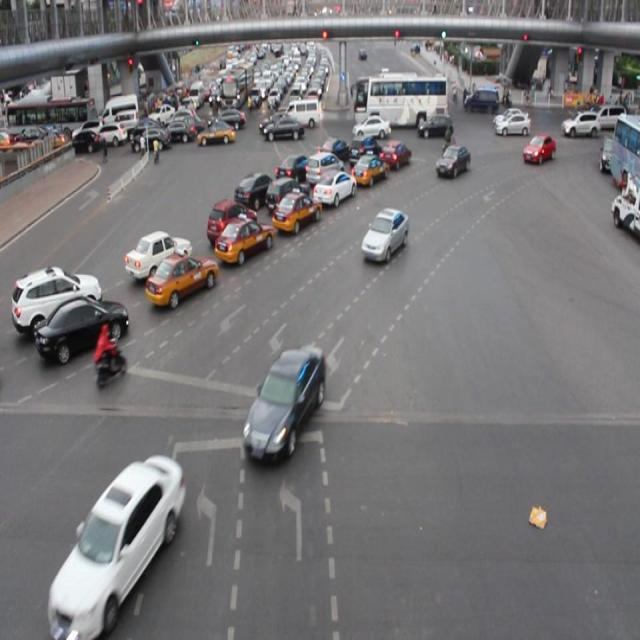car: (51, 458, 186, 632), (242, 347, 326, 465), (36, 296, 132, 362), (11, 265, 102, 331), (144, 249, 220, 307), (122, 227, 193, 284), (215, 216, 275, 266), (361, 206, 408, 268), (270, 185, 324, 236), (204, 198, 259, 244), (311, 168, 359, 211), (265, 173, 310, 215), (304, 146, 345, 192), (232, 173, 276, 211), (350, 149, 390, 190), (434, 142, 472, 184), (273, 152, 314, 186), (522, 129, 556, 170), (347, 132, 383, 169), (378, 138, 413, 174), (320, 134, 352, 168)
